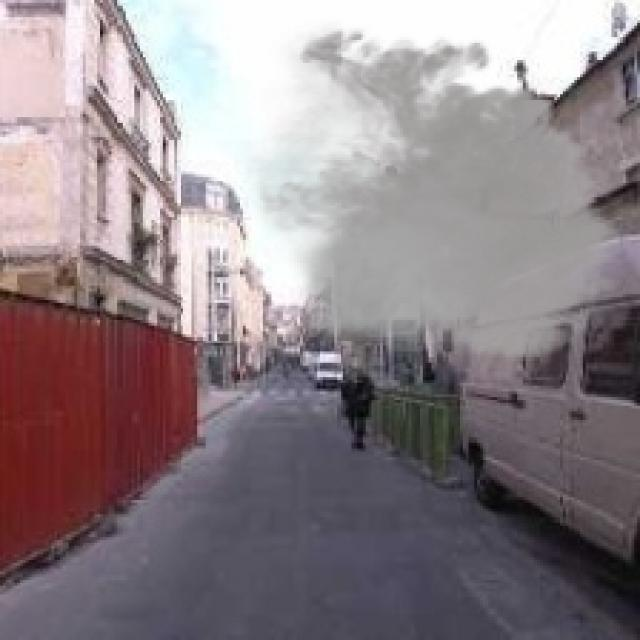smoke: (234, 17, 637, 372)
